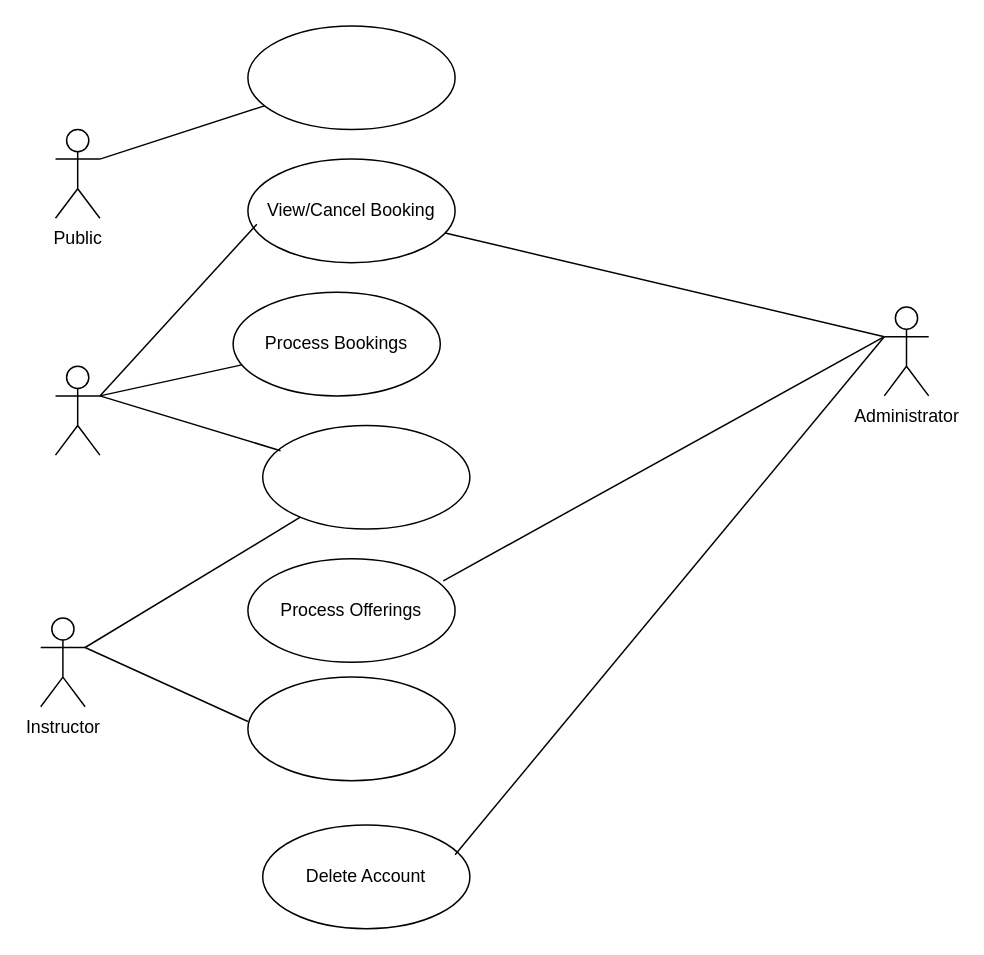
This 984x955 diagram has some shape labels left out. Each missing label, with the centre of its shape:
Client: point 77,410
Register with the system: point 365,476
Take offerings: point 350,728
View available offerings: point 350,77
